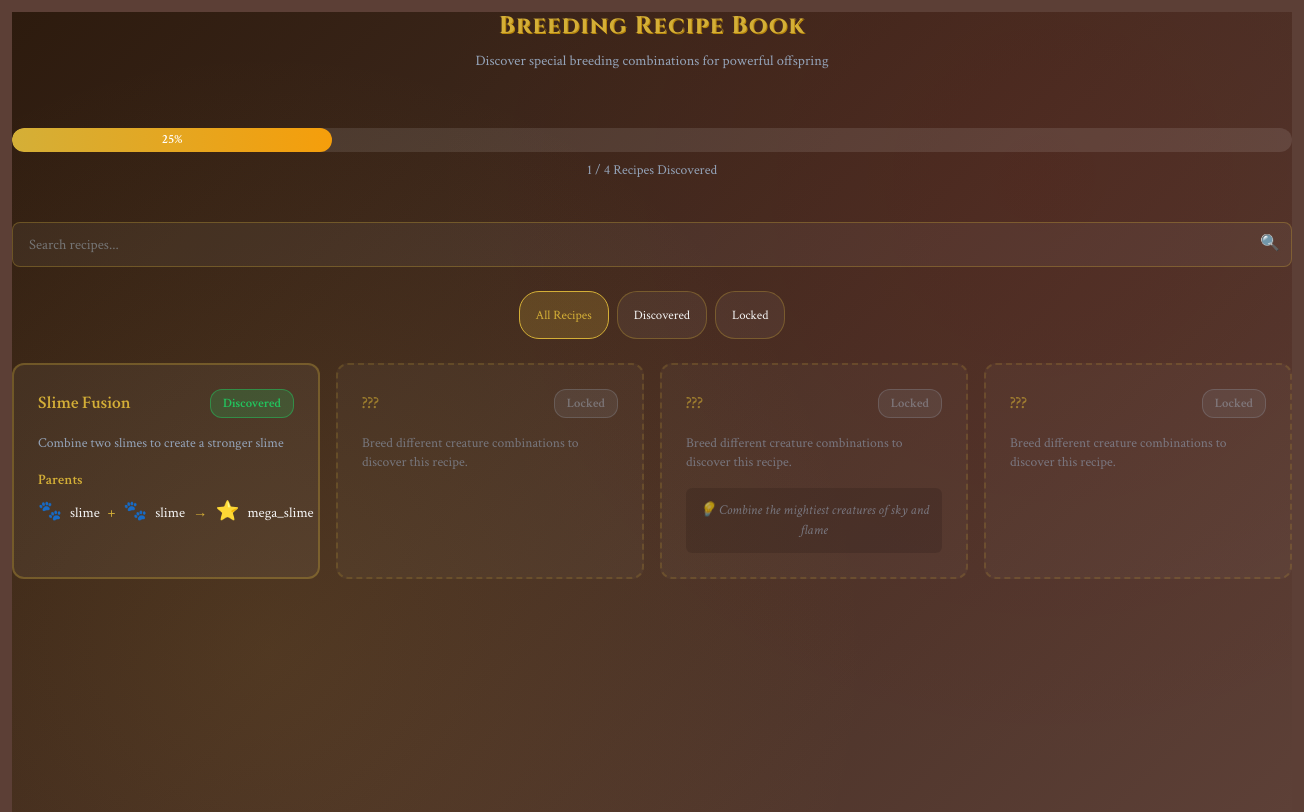
Scenario: BreedingRecipeBook › Filter by Discovery Status › should filter to locked recipes only
This screenshot has width=1304, height=812.
expect the text "Slime Fusion" is shown: met, box [38,390,131,416]
Click the button "Locked" at (750, 315), box [715,291,785,339]
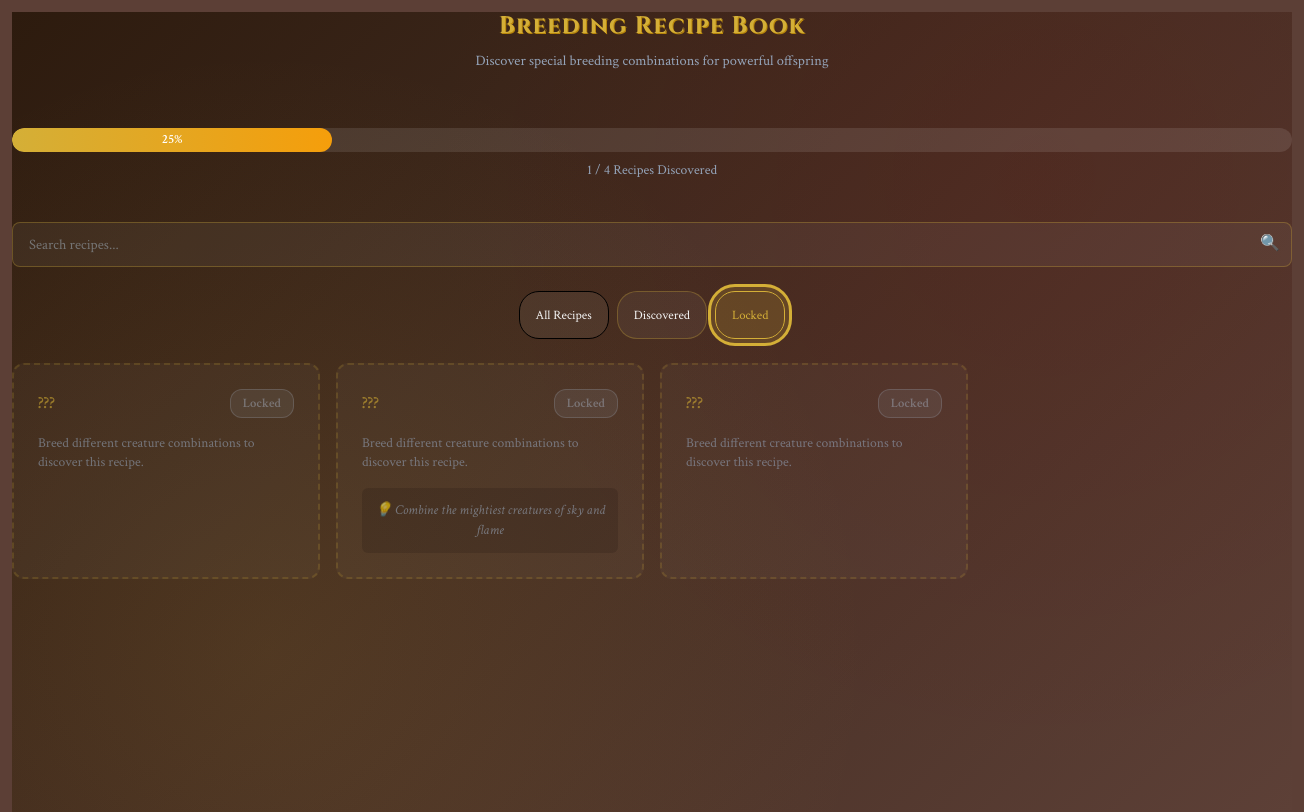
expect the 1st text "???" is shown: met, box [38,390,55,416]
expect the text "Slime Fusion" is gone: met
